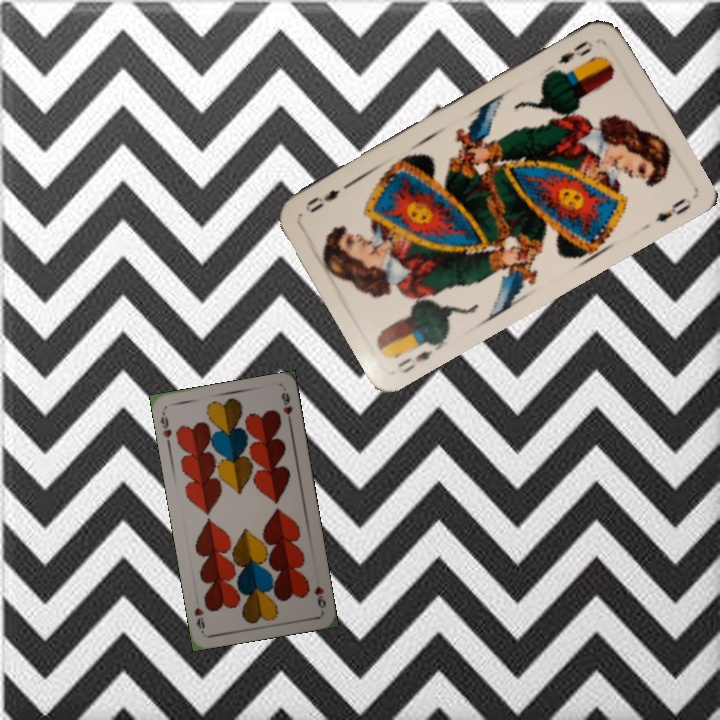EO: (554, 36, 596, 67), (393, 346, 435, 377)
H9: (156, 407, 174, 448), (310, 582, 328, 611)
